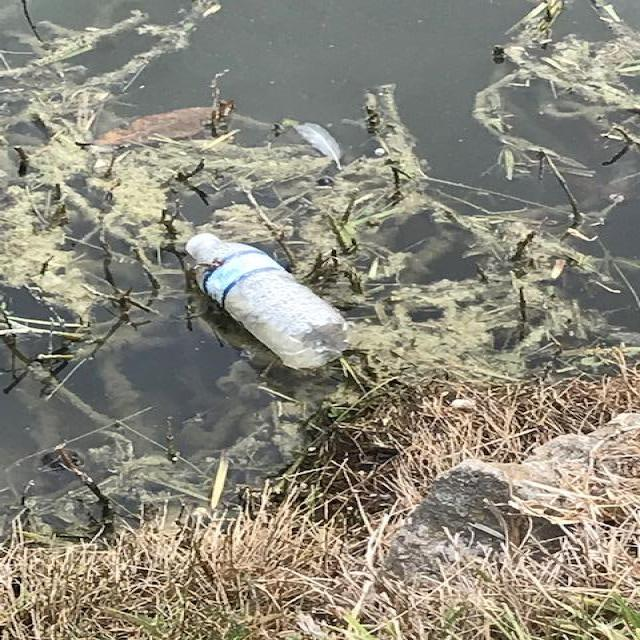litter: (187, 233, 352, 371)
